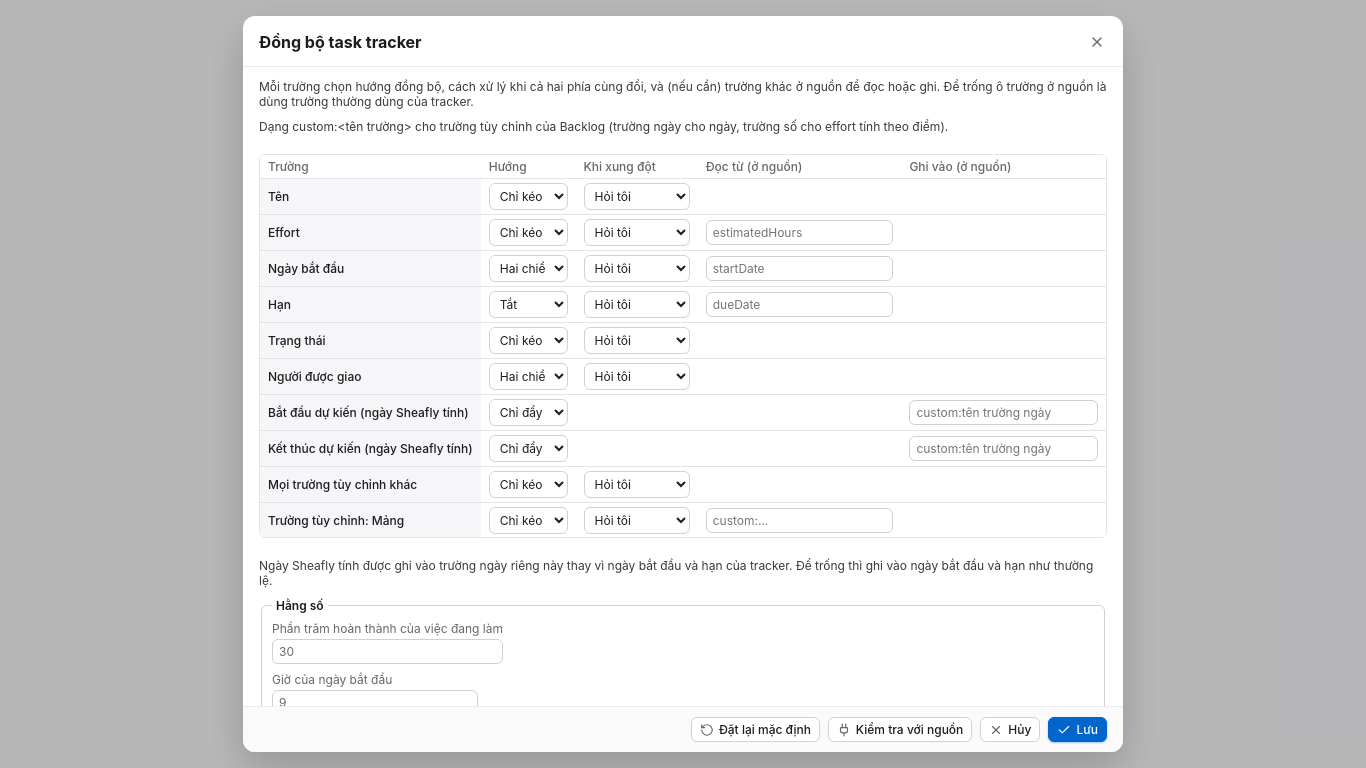
Test case: TrackerSettingsDialog › resets the rows and the constants to the defaults
expect the dropdown named "Hạn: Hướng" shows "Tắt": met, box [489,291,568,318]
Click the button "Đặt lại mặc định". click: [755, 730]
box: [691,717,820,742]
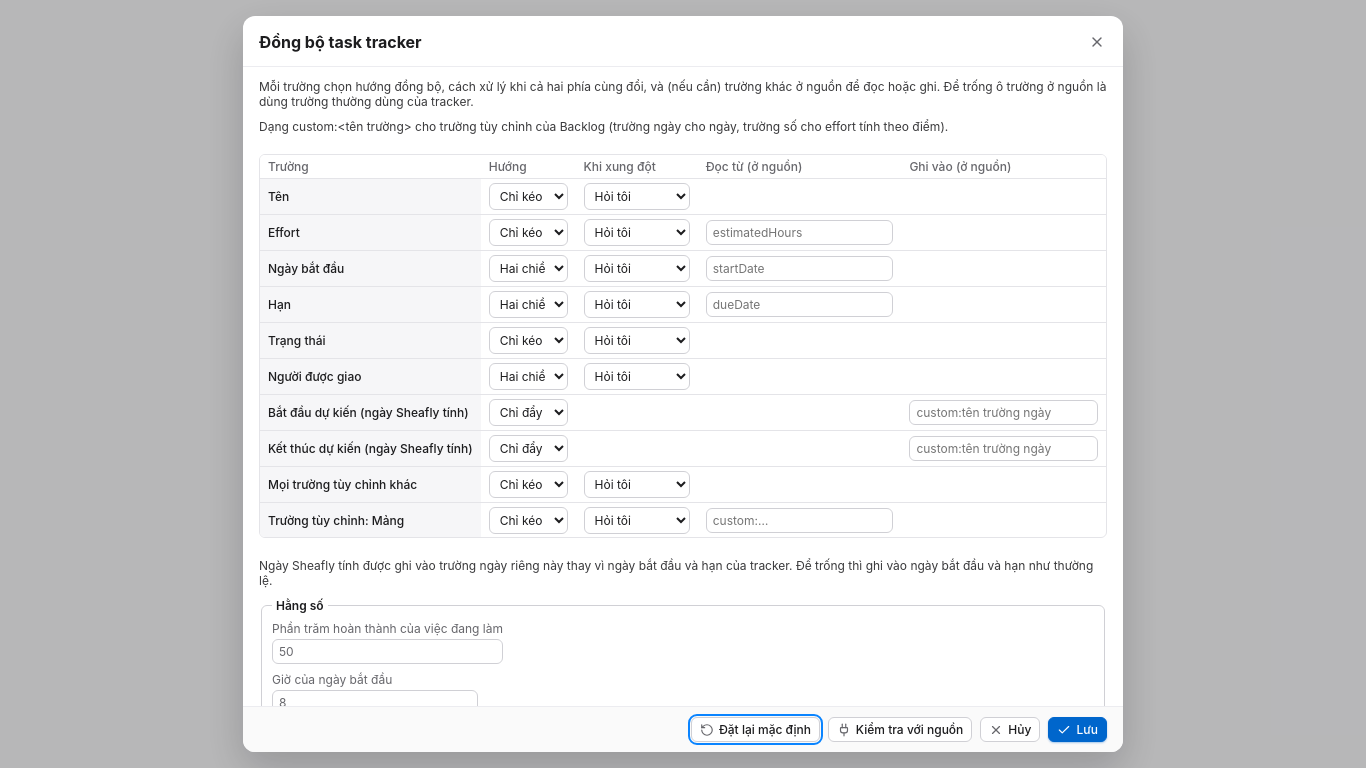
expect the dropdown named "Hạn: Hướng" shows "Hai chiều": met, box [489,291,568,318]
expect the field labelled "Phần trăm hoàn thành của việc đang làm" holds "50": met, box [272,639,503,664]
expect the field labelled "Giờ của ngày bắt đầu" holds "8": met, box [272,690,478,706]
